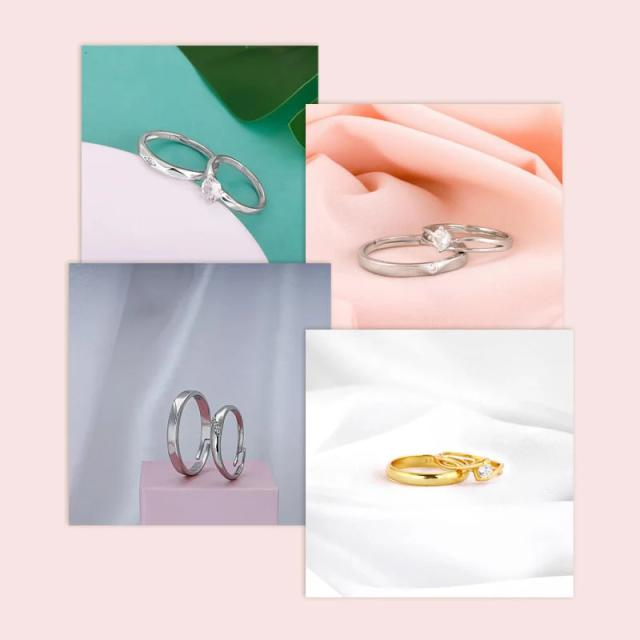Ring: (336, 212, 466, 289), (415, 211, 536, 266), (139, 386, 212, 470), (379, 439, 469, 504), (127, 121, 216, 185), (212, 149, 268, 227), (211, 405, 254, 499), (437, 442, 517, 488)
